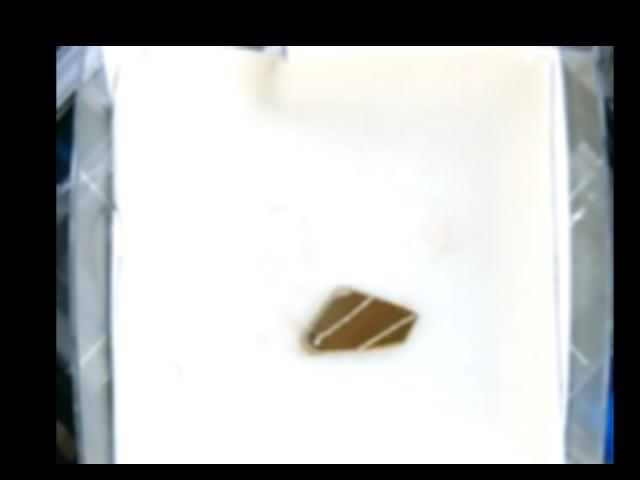China: (298, 283, 419, 356)
